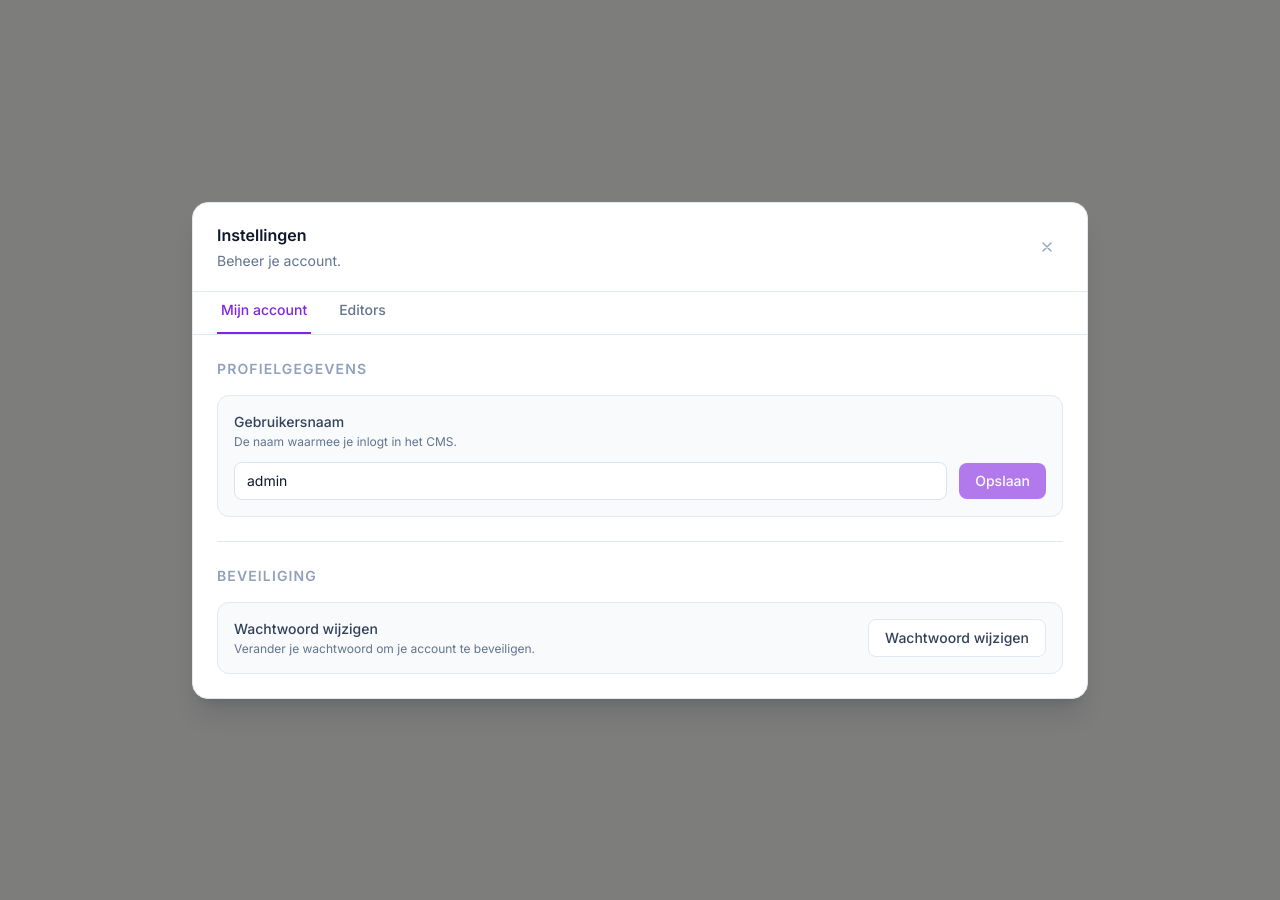
Test: SettingsModal › hides password reset fields when cancelled
Step 1. Click the button "Wachtwoord wijzigen" → click(957, 638), box left=868, top=618, right=1046, bottom=656
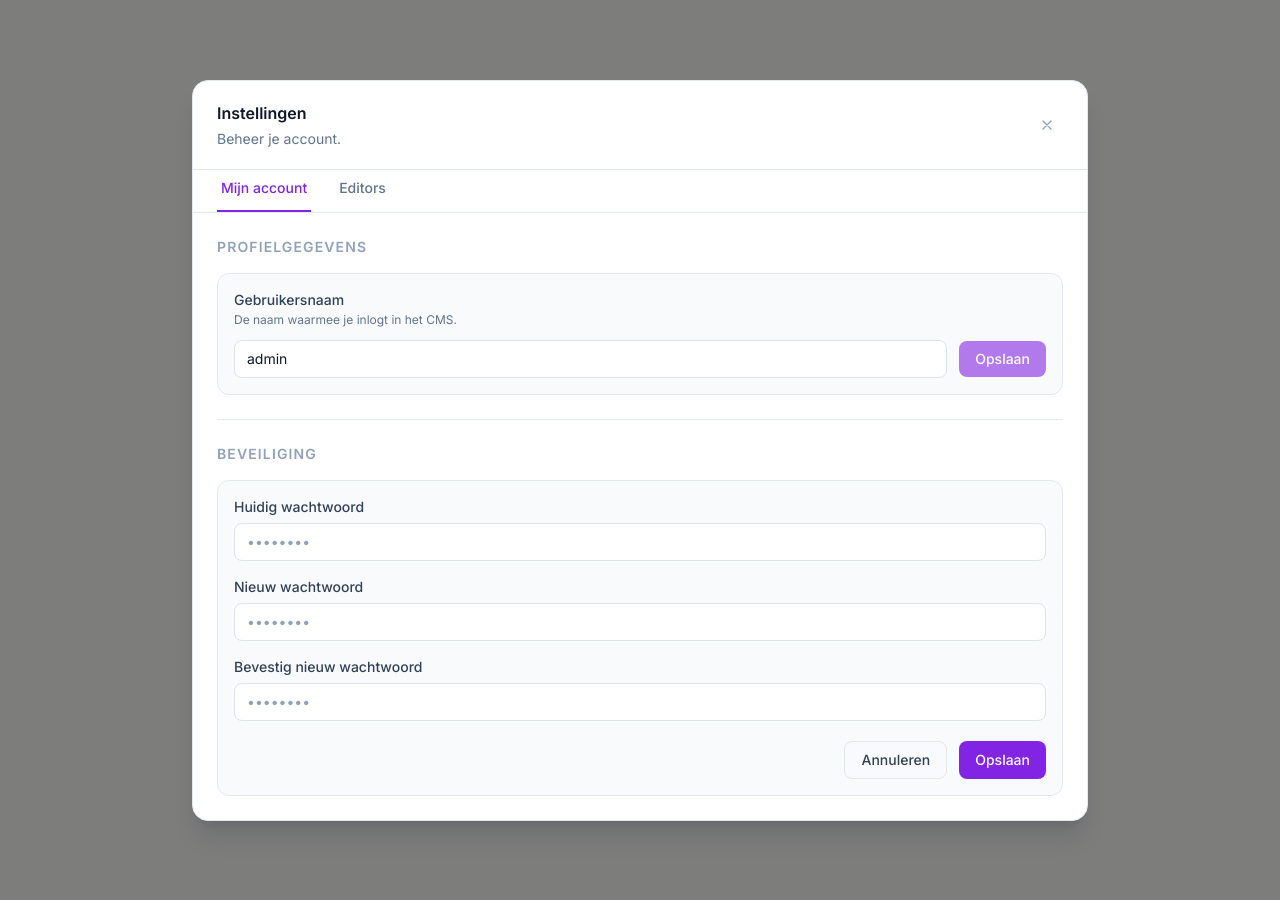
Step 2. Click the button "Annuleren" → click(896, 760), box left=844, top=740, right=947, bottom=778
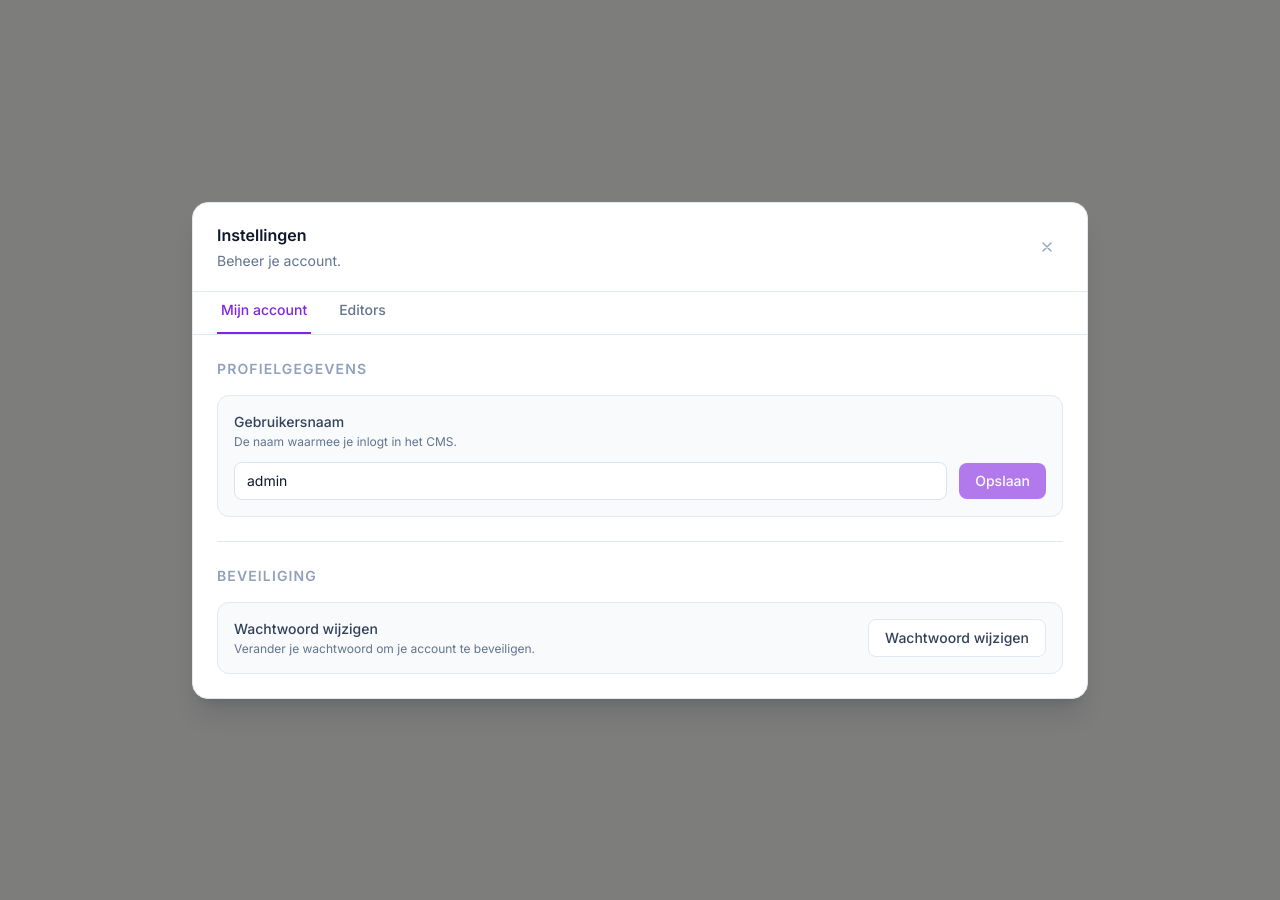
Check: the label labelled "Nieuw wachtwoord" is gone
Check: the button "Wachtwoord wijzigen" is shown, box left=868, top=618, right=1046, bottom=656
